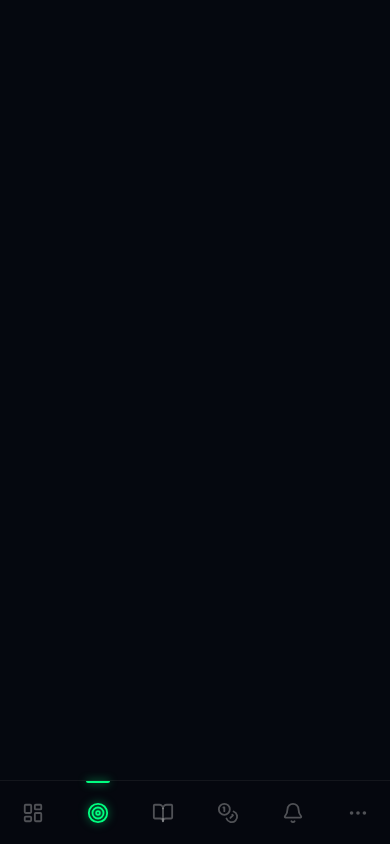
it: Sidebar — menu "Mais" na nav mobile (achado M-10) › REGRESSÃO: clicar em "Mais" abre um dialog com os 7 labels secundários como link
Click the button named "Mais opções de navegação" at (358, 812), box [325, 781, 389, 843]
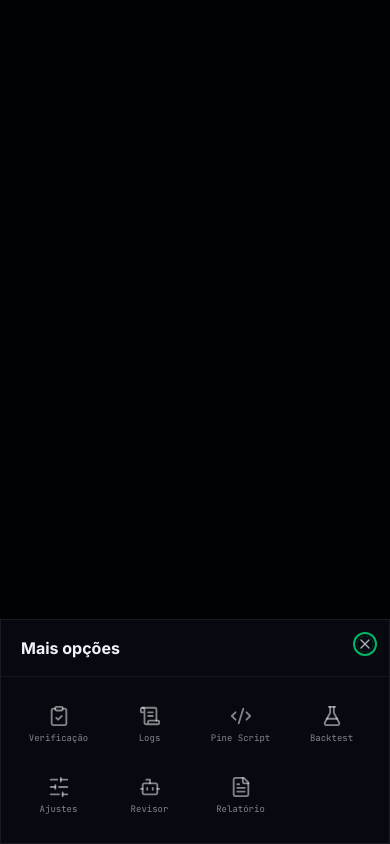
Check: the link "Verificação" is shown, box [29, 704, 88, 744]
Check: the link "Logs" is shown, box [138, 704, 160, 744]
Check: the link "Pine Script" is shown, box [211, 704, 270, 744]
